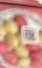2d: (21, 25, 38, 43)
